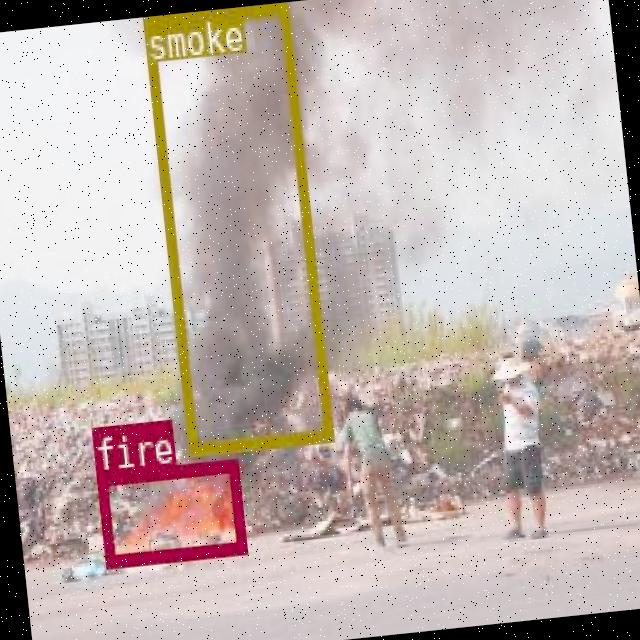fire: (93, 457, 244, 564)
smoke: (142, 2, 332, 454)
